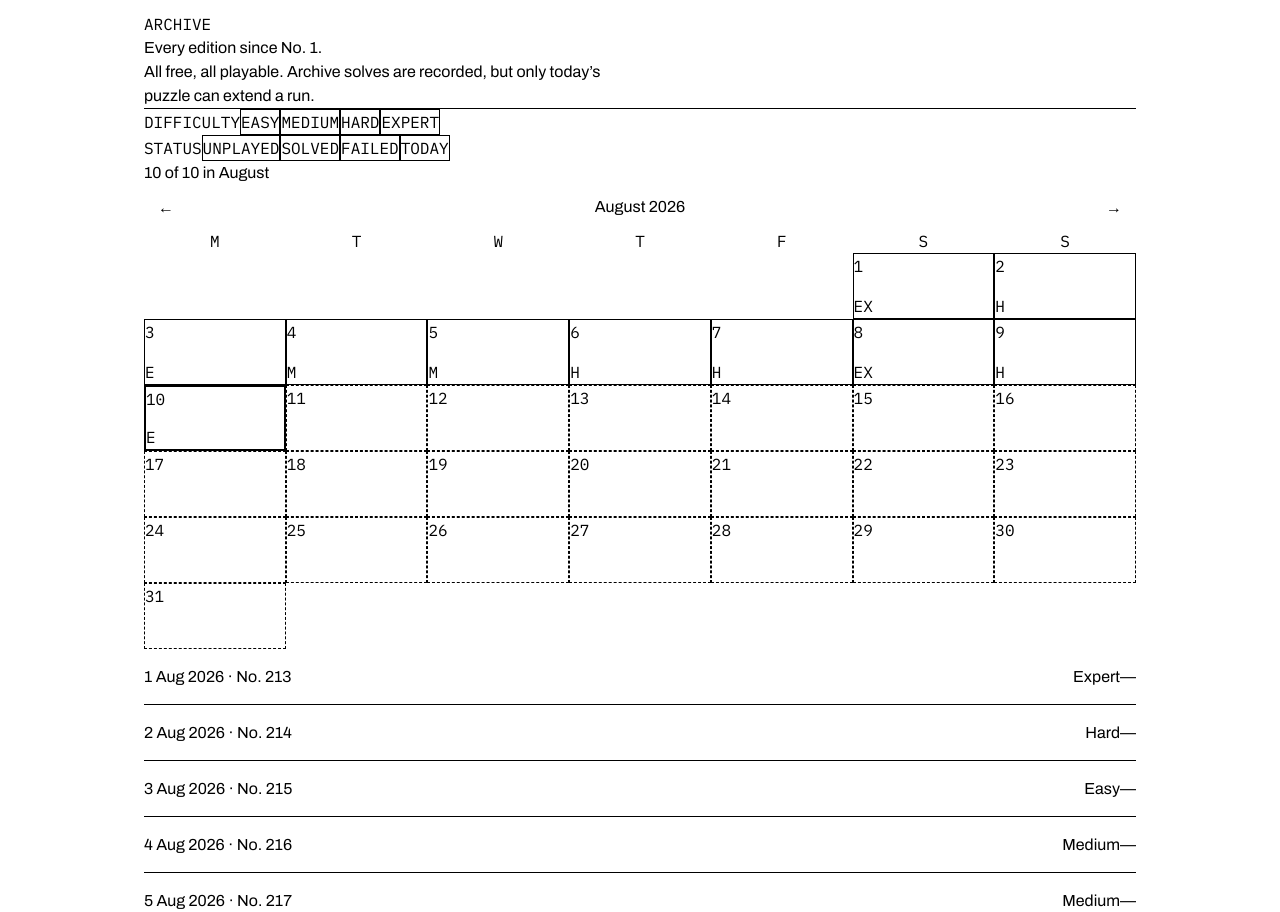
it: ArchiveScreen › walks forward in time with the right arrow
This screenshot has width=1280, height=912.
Click the button "←" at coordinates (166, 207), box left=144, top=185, right=188, bottom=229
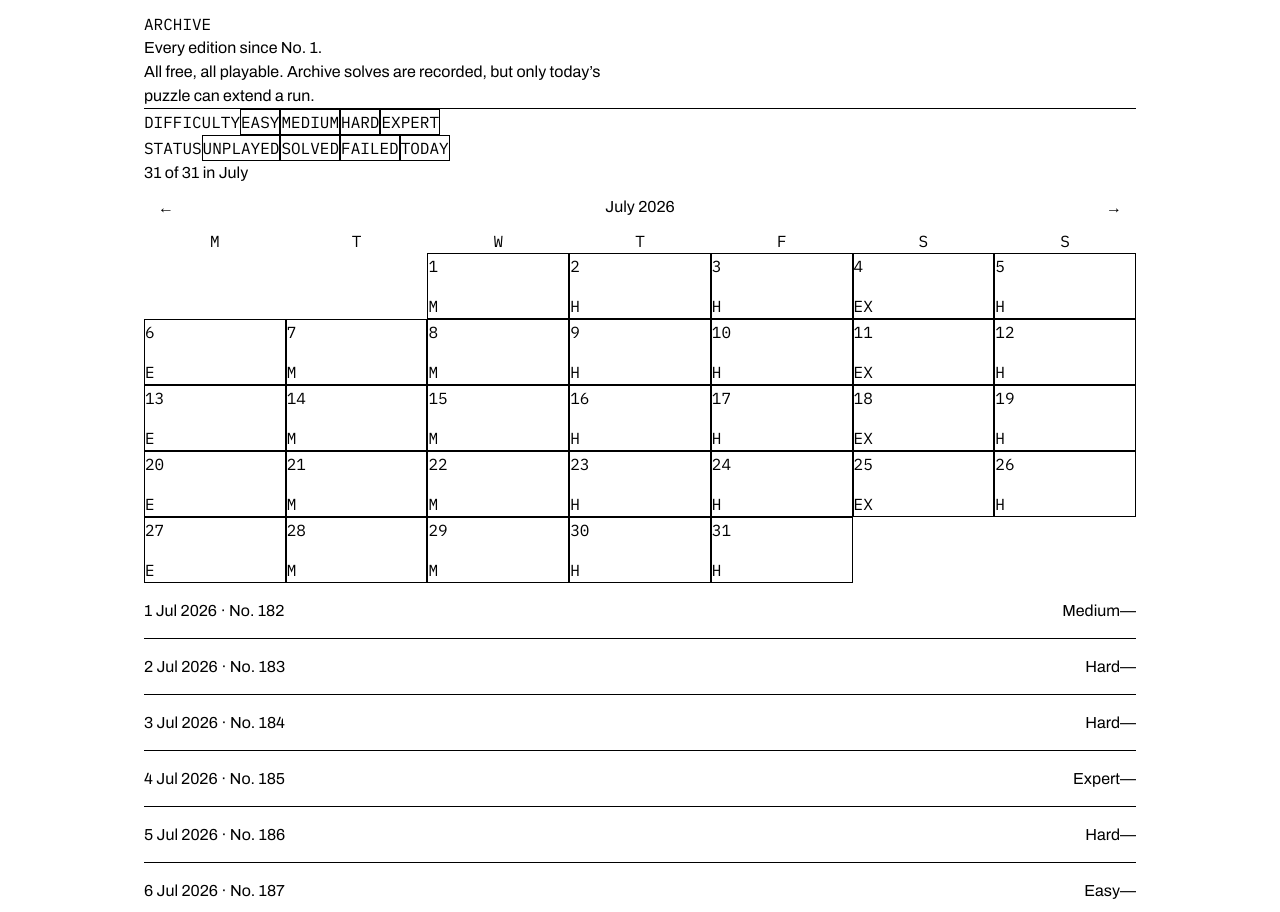
Check: the text "July 2026" is shown, box left=605, top=195, right=675, bottom=219
Click the button "→" at coordinates (1114, 207), box left=1092, top=185, right=1136, bottom=229
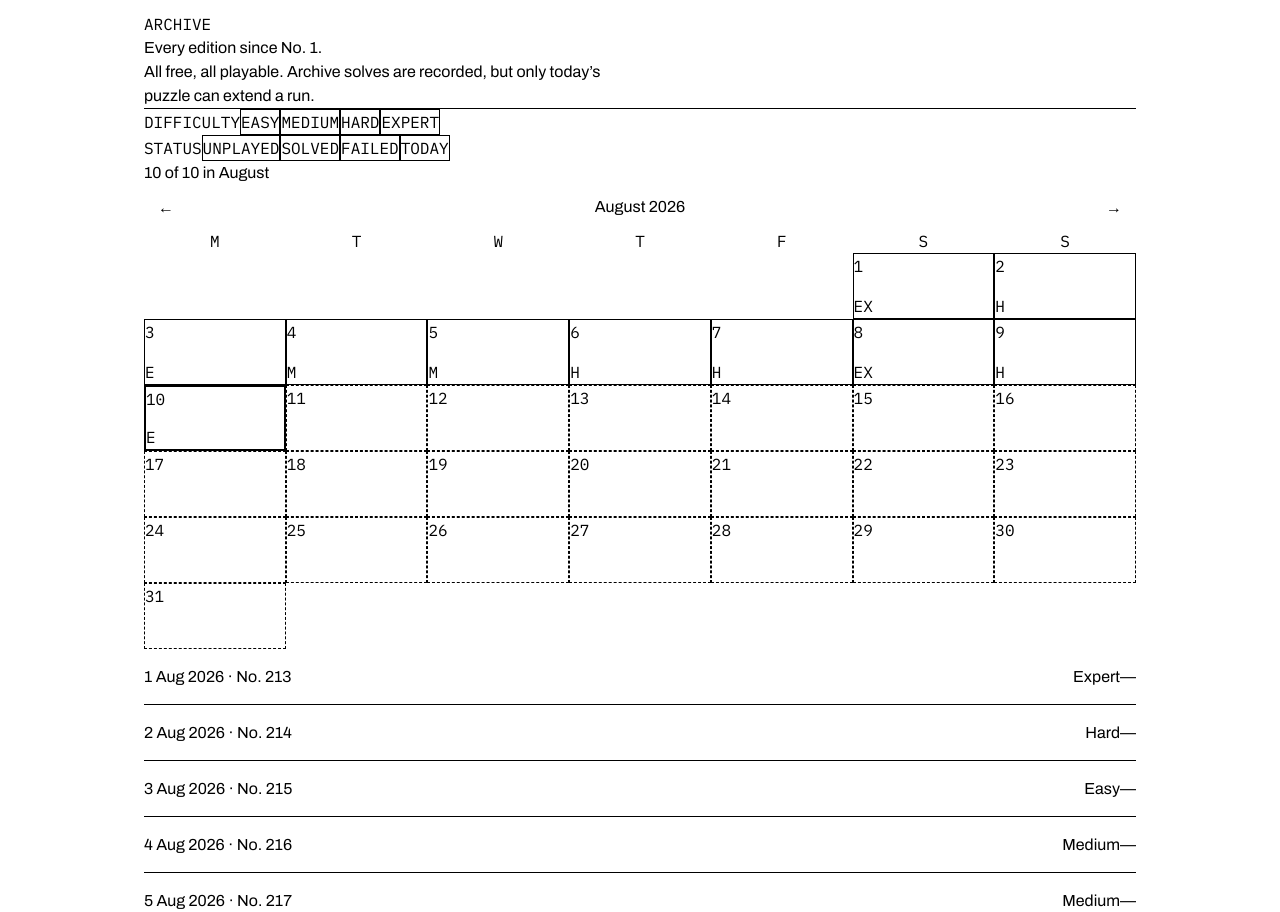
Check: the text "August 2026" is shown, box left=595, top=195, right=685, bottom=219
